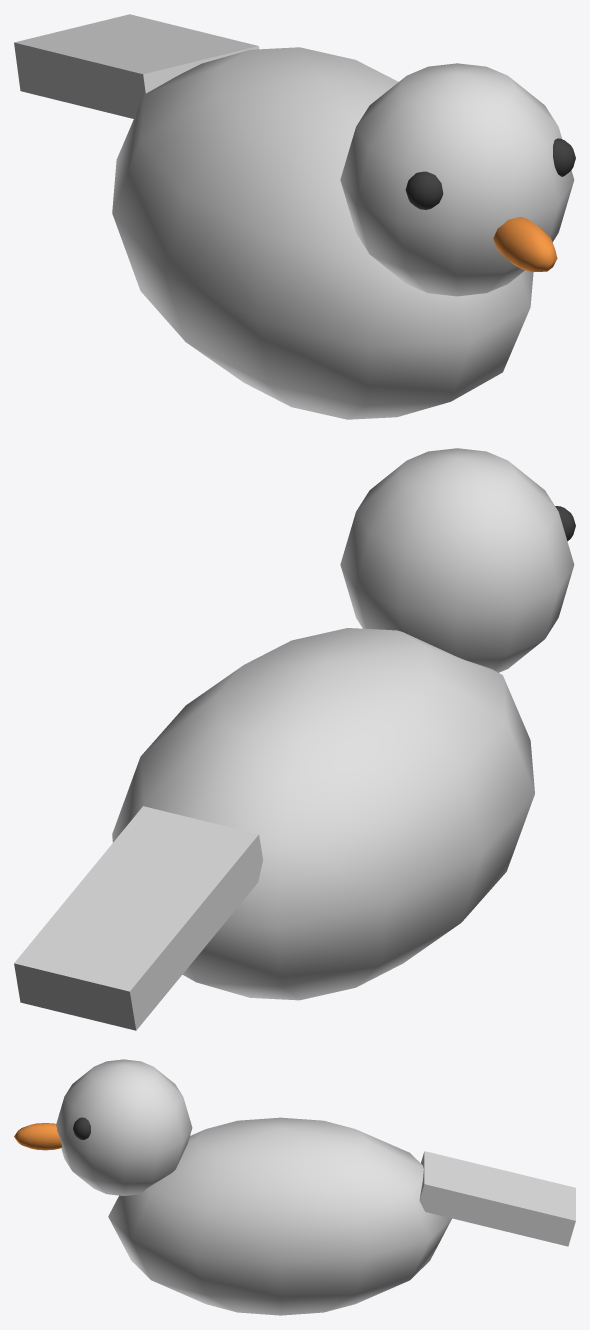
The model's file is dove.glb.
3 renders of one model, top to bottom at view 1: azimuth 30°, elevation 25°; view 2: azimuth 150°, elevation 25°; view 3: azimuth 270°, elevation 25°, orthographic. The views are drawn at different scales.
Visible parts, largest first — view 1: dove; view 2: dove; view 3: dove.
Boxes of the visible parts, x1,y1,x2,y2 form: dove: (14,14,575,419); dove: (14,448,575,1030); dove: (14,1059,575,1315).
Bounding box in the file's own units: 0.22 × 0.269 × 0.5732.
